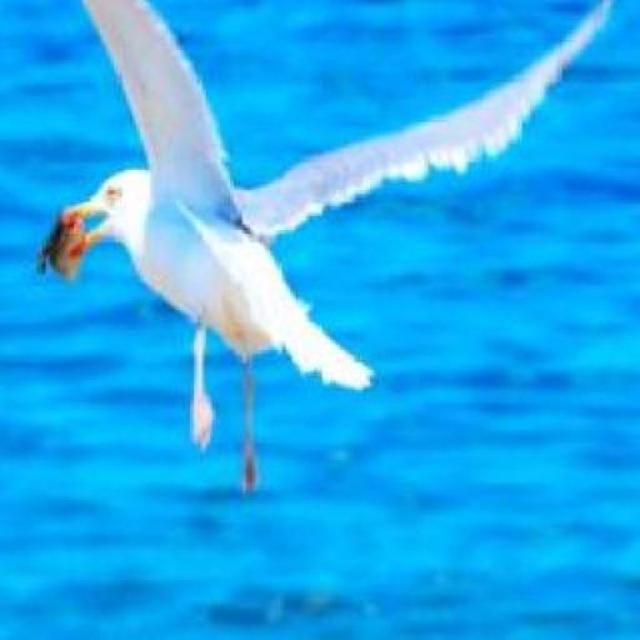airplane: (0, 0, 622, 502)
